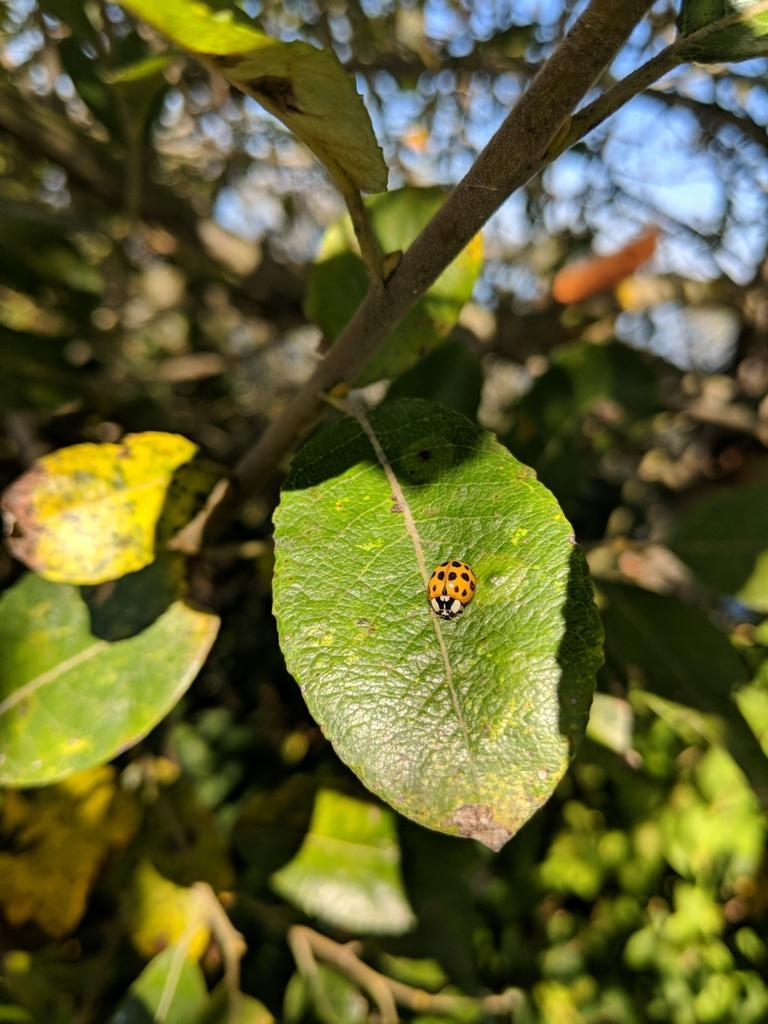ladybug: (427, 558, 482, 623)
